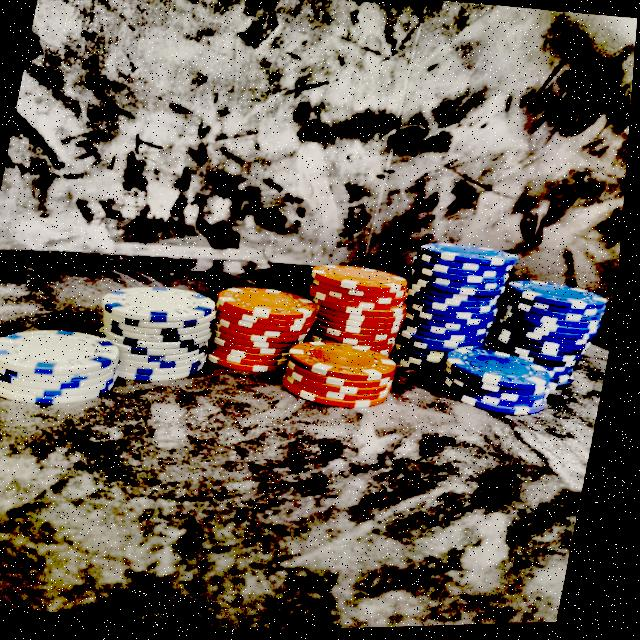Chip: (396, 236, 523, 386), (489, 271, 617, 402), (87, 275, 226, 394), (294, 259, 421, 375), (0, 317, 133, 415), (204, 281, 328, 383), (281, 334, 409, 416), (442, 342, 563, 422)
